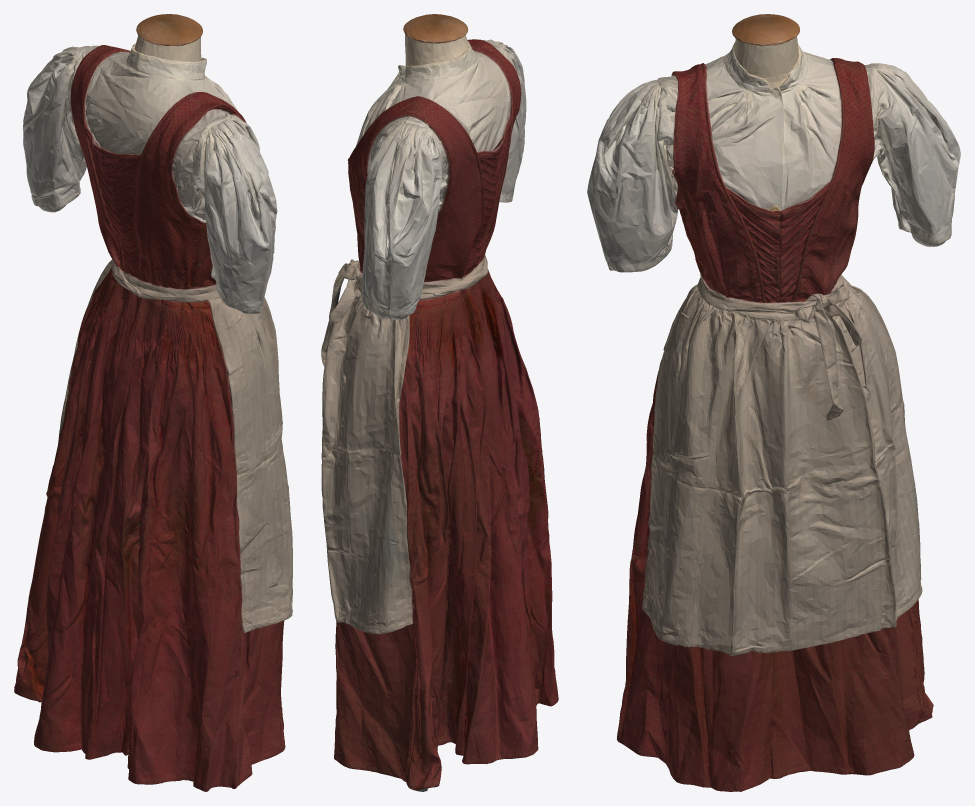
File: ED99580F-22E9-C448-BDCD-5CAA8ABBE22B_2k.glb
The picture shows the model from 3 angles, left to right: view 1: azimuth 30°, elevation 25°; view 2: azimuth 150°, elevation 25°; view 3: azimuth 270°, elevation 25°; orthographic projection. The views are drawn at different scales.
Parts seen in each view (by area): view 1: Arbeitsdirndl_112k_2k; view 2: Arbeitsdirndl_112k_2k; view 3: Arbeitsdirndl_112k_2k.
Boxes of the visible parts, x1,y1,x2,y2 form: Arbeitsdirndl_112k_2k: (14, 14, 292, 791); Arbeitsdirndl_112k_2k: (321, 14, 558, 791); Arbeitsdirndl_112k_2k: (587, 14, 960, 791).
Size of the model in its own units: 0.3962 by 1.27 by 0.5862.
1 material, 1 textured.
